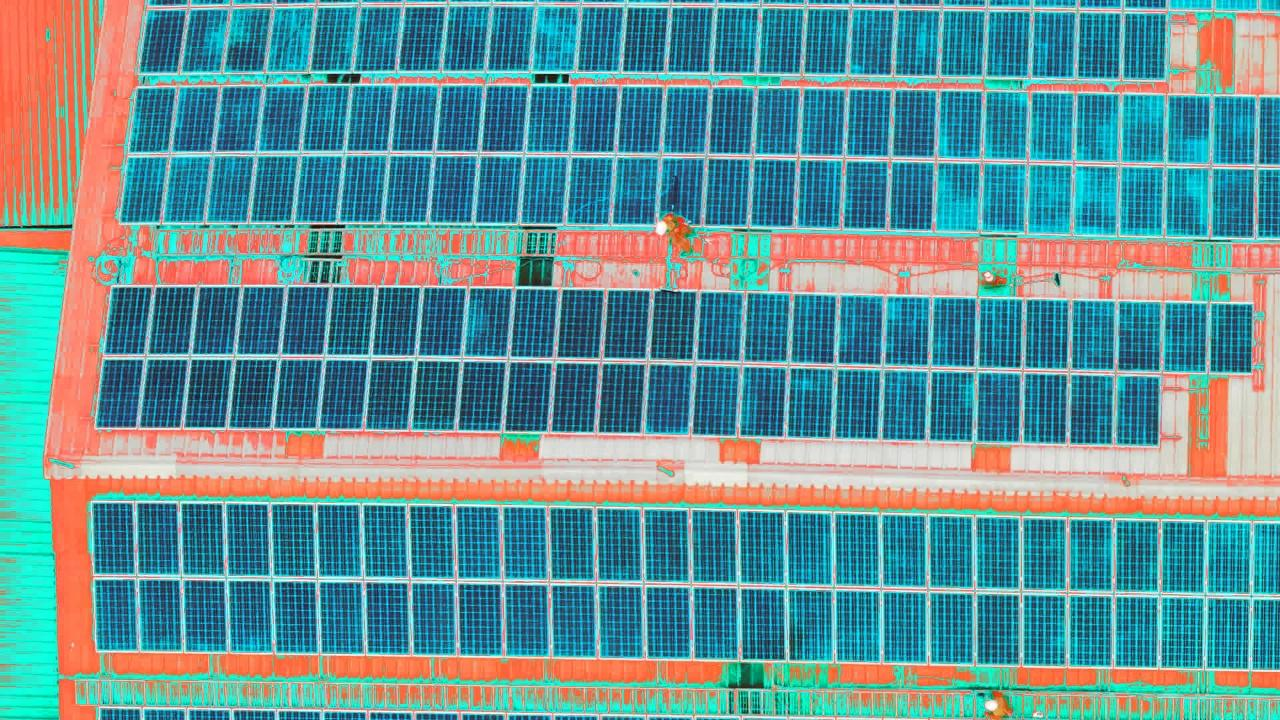clean: (88, 498, 1280, 670), (122, 85, 1278, 234), (105, 285, 1166, 444), (146, 4, 1172, 81), (1167, 301, 1259, 369)
